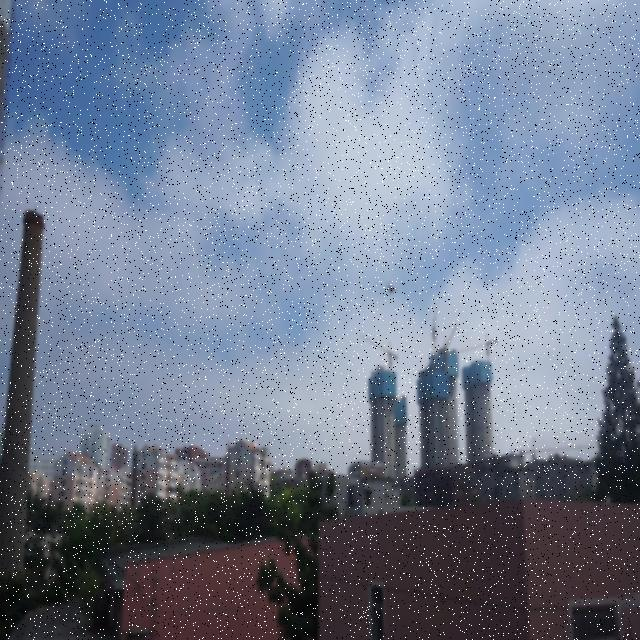UAV: (385, 282, 398, 296)
